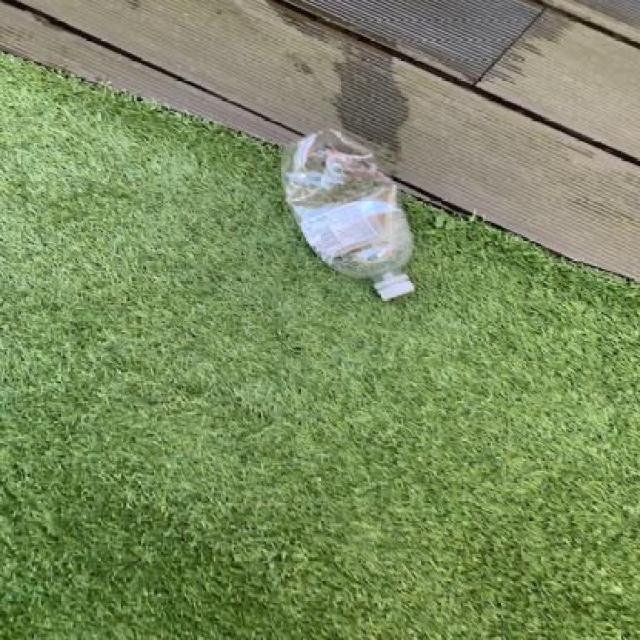trash: (271, 126, 435, 305)
